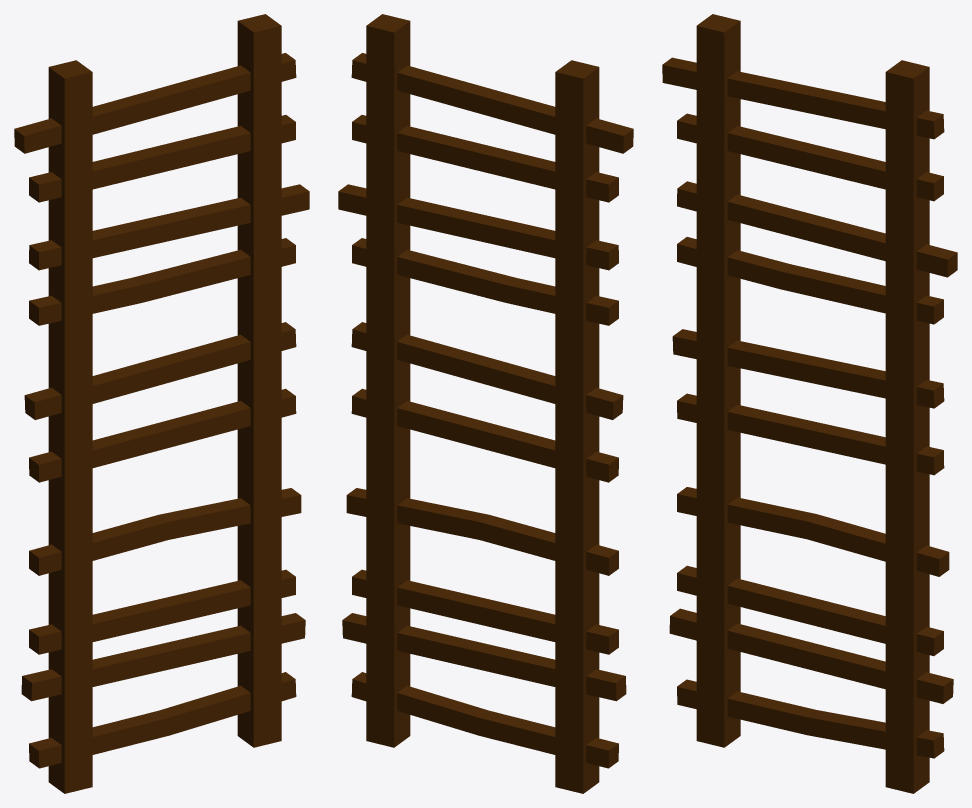
Rendered from ladder.fbx.
3 renders of one model, left to right at view 1: azimuth 30°, elevation 25°; view 2: azimuth 150°, elevation 25°; view 3: azimuth 330°, elevation 25°, orthographic.
Visible parts, largest first — view 1: Cube.006; view 2: Cube.006; view 3: Cube.006.
Part boxes in pixels (left/top/right/bottom): Cube.006: left=14, top=14, right=309, bottom=793; Cube.006: left=338, top=14, right=633, bottom=793; Cube.006: left=662, top=14, right=957, bottom=793.
Size of the model in its own units: 215 by 514 by 20.98.
